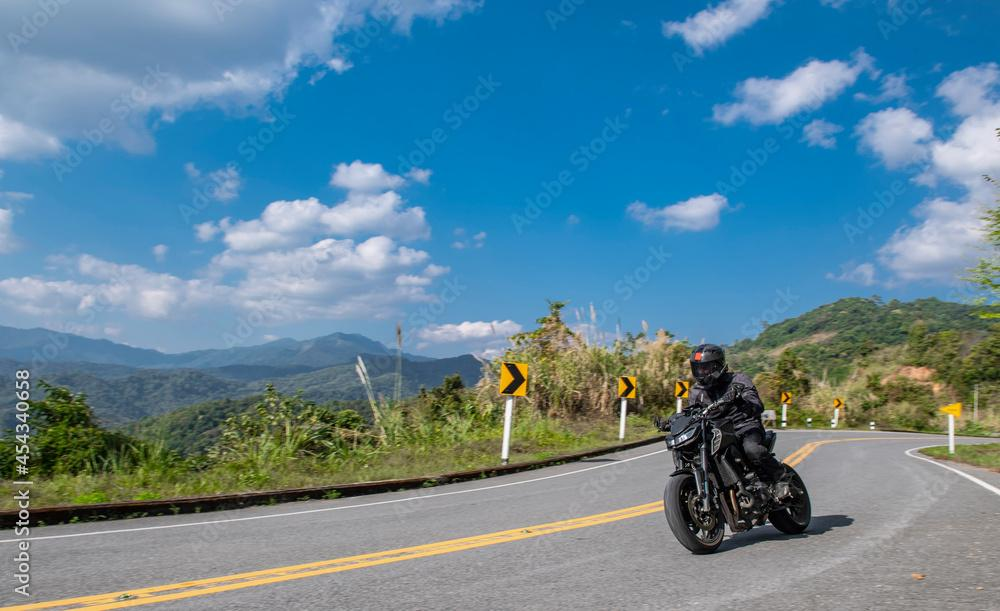helmet: (689, 343, 729, 388)
